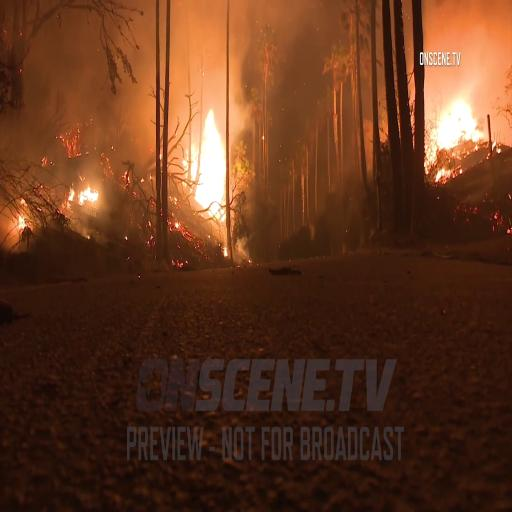fire: (184, 99, 231, 220), (426, 89, 485, 177)
